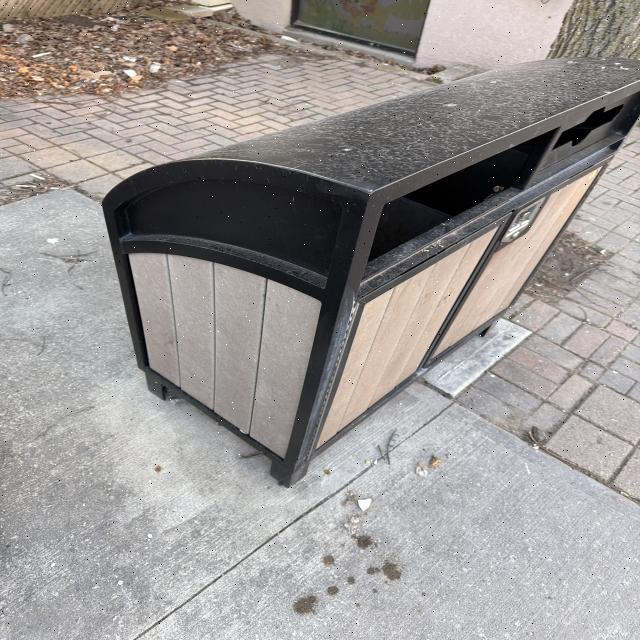Dustbin: (96, 59, 640, 488)
